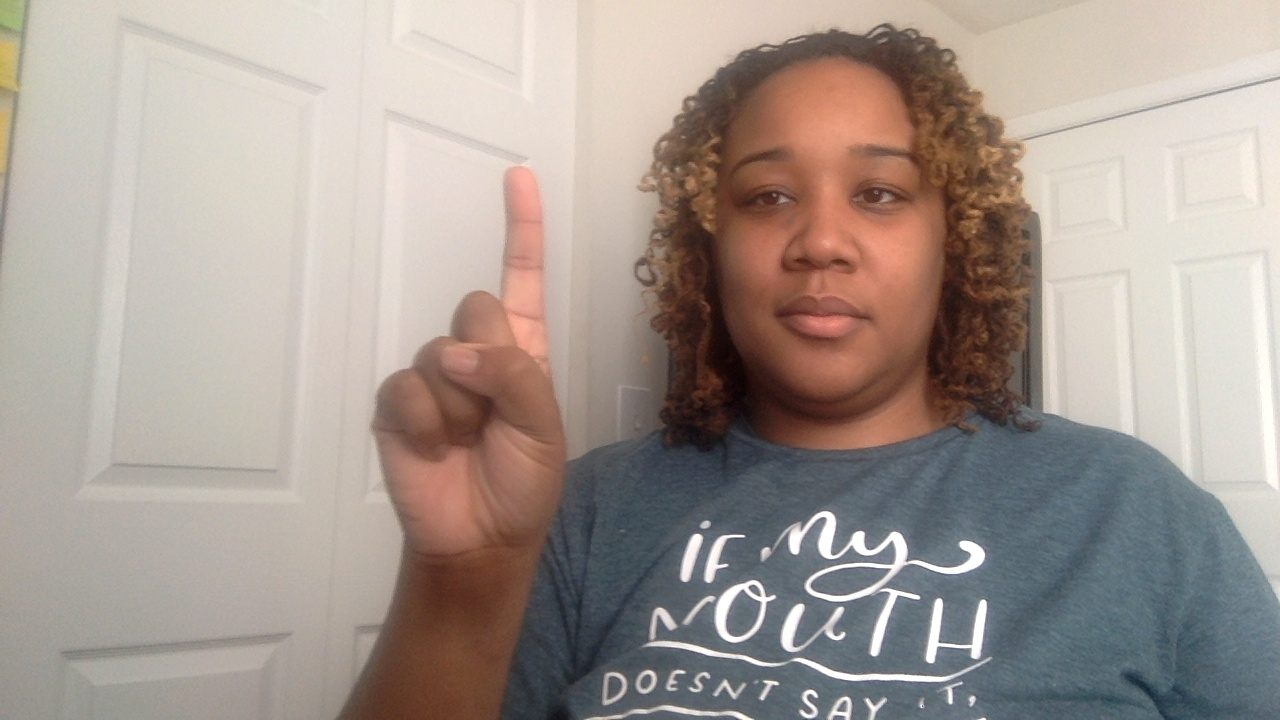up: (332, 143, 585, 720)
